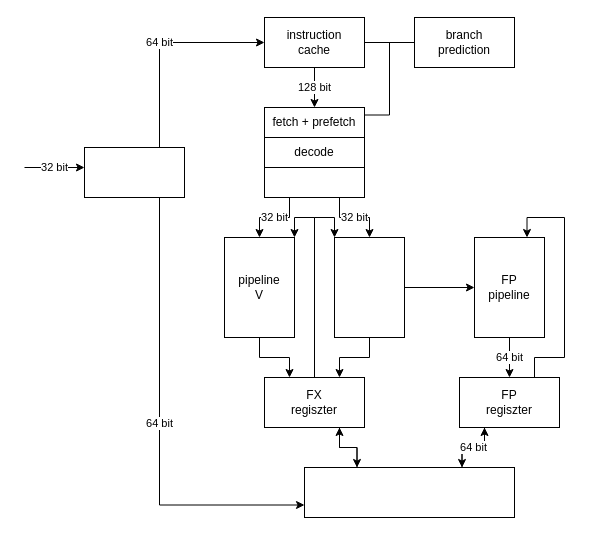
This 590x535 diagram has some shape labels left out. Each missing label, with the centre of its shape:
busz vezérlő: the point at 134,172
data cache: the point at 409,492
issue: the point at 314,182
master pipeline U: the point at 369,287
